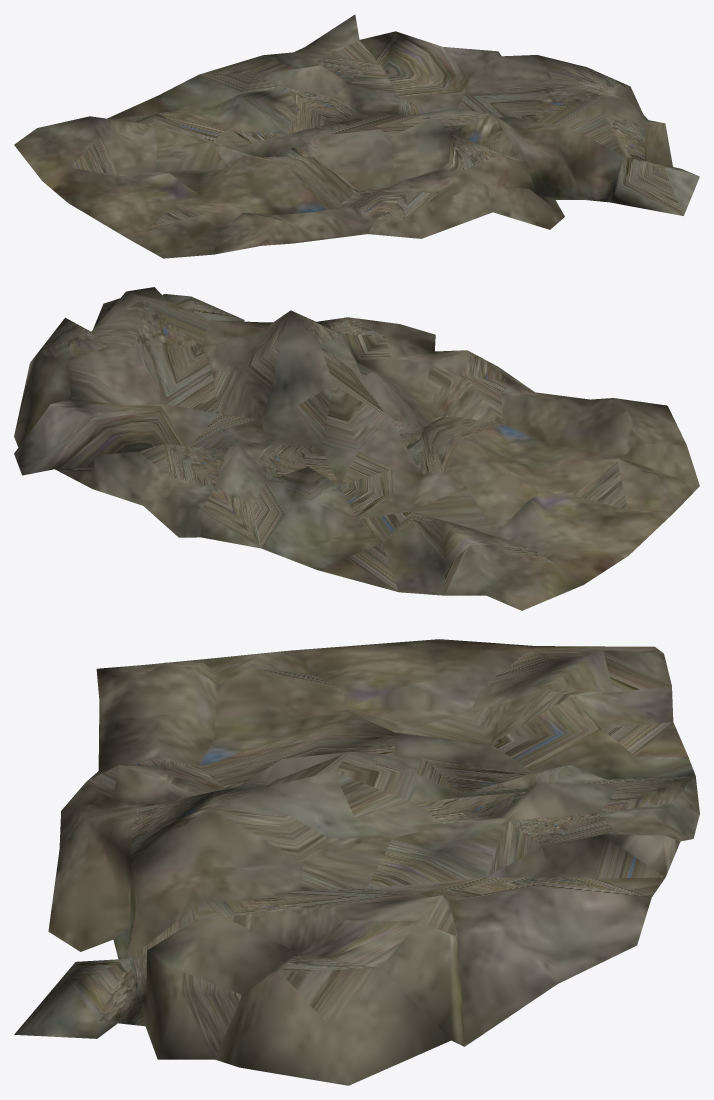
Rendered from shore-slab.lod1.glb.
3 renders of one model, top to bottom at view 1: azimuth 30°, elevation 25°; view 2: azimuth 150°, elevation 25°; view 3: azimuth 270°, elevation 25°, orthographic. The views are drawn at different scales.
Visible parts, largest first — view 1: Object_4; view 2: Object_4; view 3: Object_4.
Part boxes in pixels (box(x1,y1,x2,y2)): Object_4: box(14, 14, 699, 258); Object_4: box(14, 287, 699, 610); Object_4: box(14, 639, 699, 1085).
Bounding box in the file's own units: 11.57 × 2.03 × 8.58.
1 material, 1 textured.
